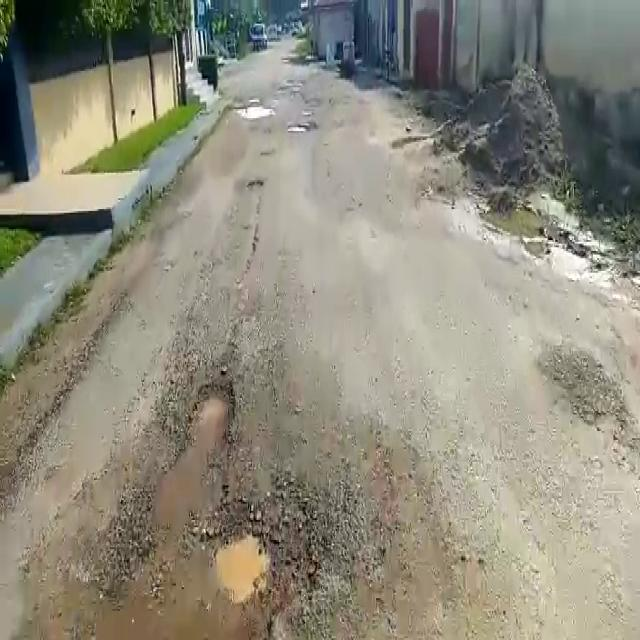Pothole: (215, 518, 274, 606)
